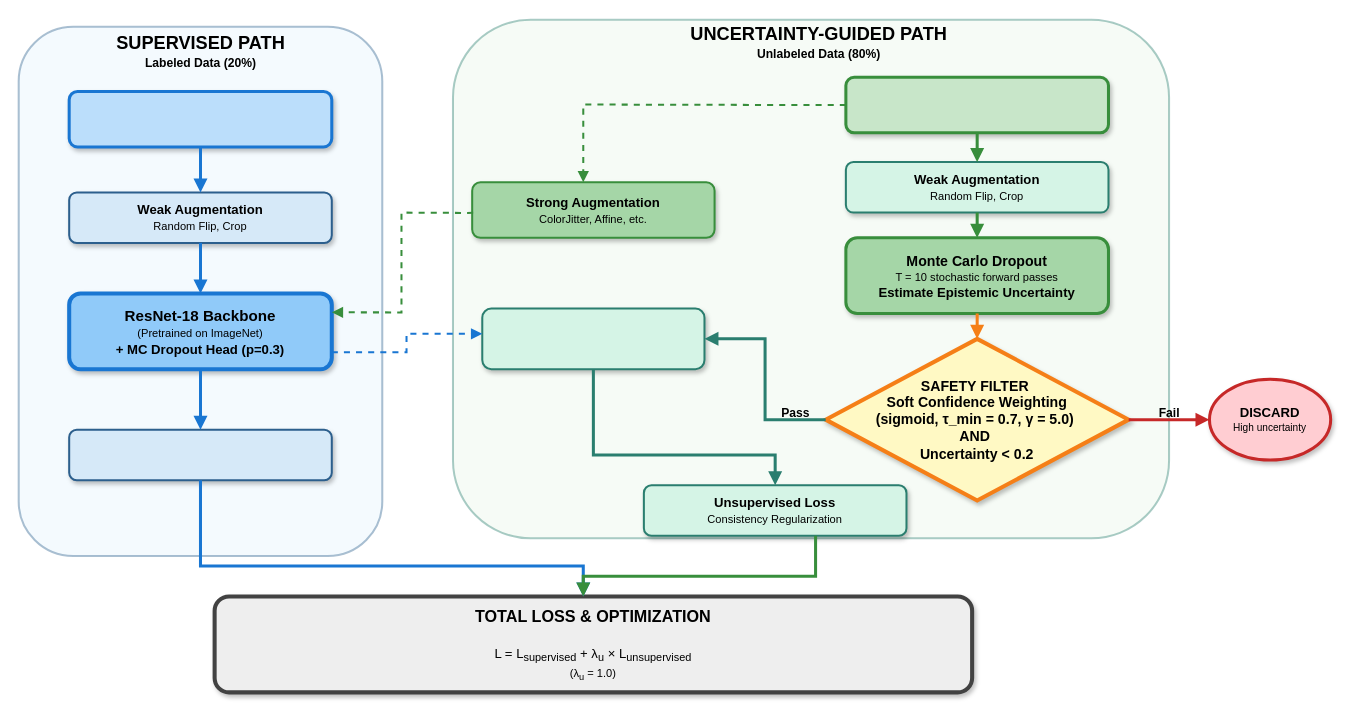
The diagram is 1355 pixels wide and 718 high, and some of its shapes have lost their labels. Each missing label, with the centre of its shape:
"Generate Pseudo-Label ŷ = argmax(p̄)" belongs at point (594, 340).
"Labeled Data 3,858 samples" belongs at point (201, 120).
"Supervised Loss (Cross-Entropy)" belongs at point (201, 456).
"Unlabeled Data 15,432 samples" belongs at point (978, 106).
